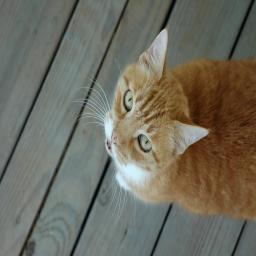catnose: (105, 139, 112, 150)
